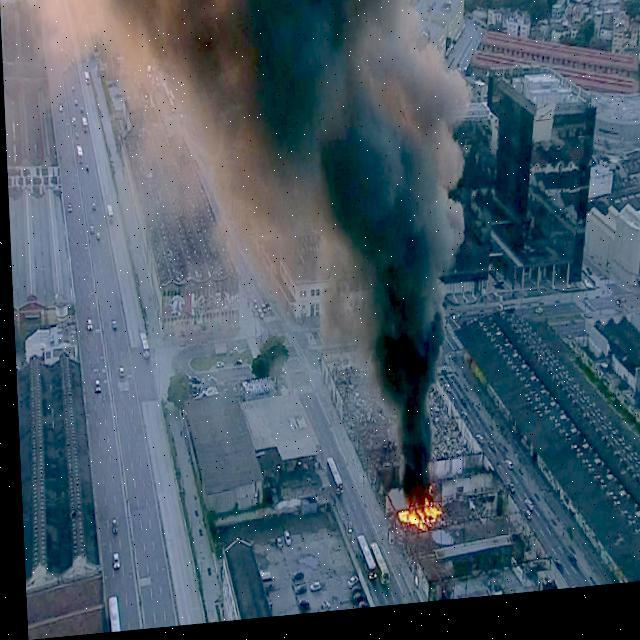Fire: (394, 504, 438, 544)
